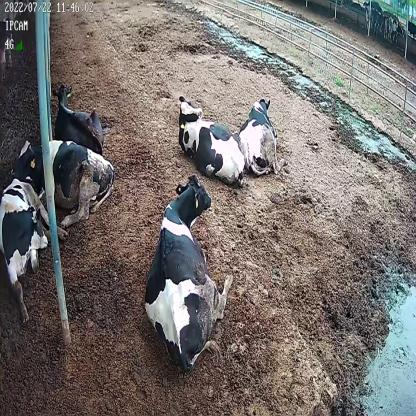cow: (143, 176, 234, 372), (11, 133, 118, 232), (0, 170, 68, 324), (177, 95, 245, 191), (238, 89, 286, 182), (51, 76, 107, 154)
